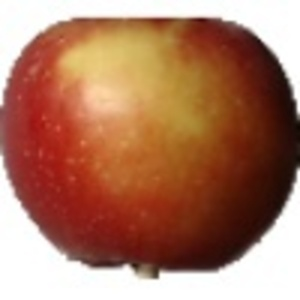maçã braeburn: (1, 13, 298, 272)
